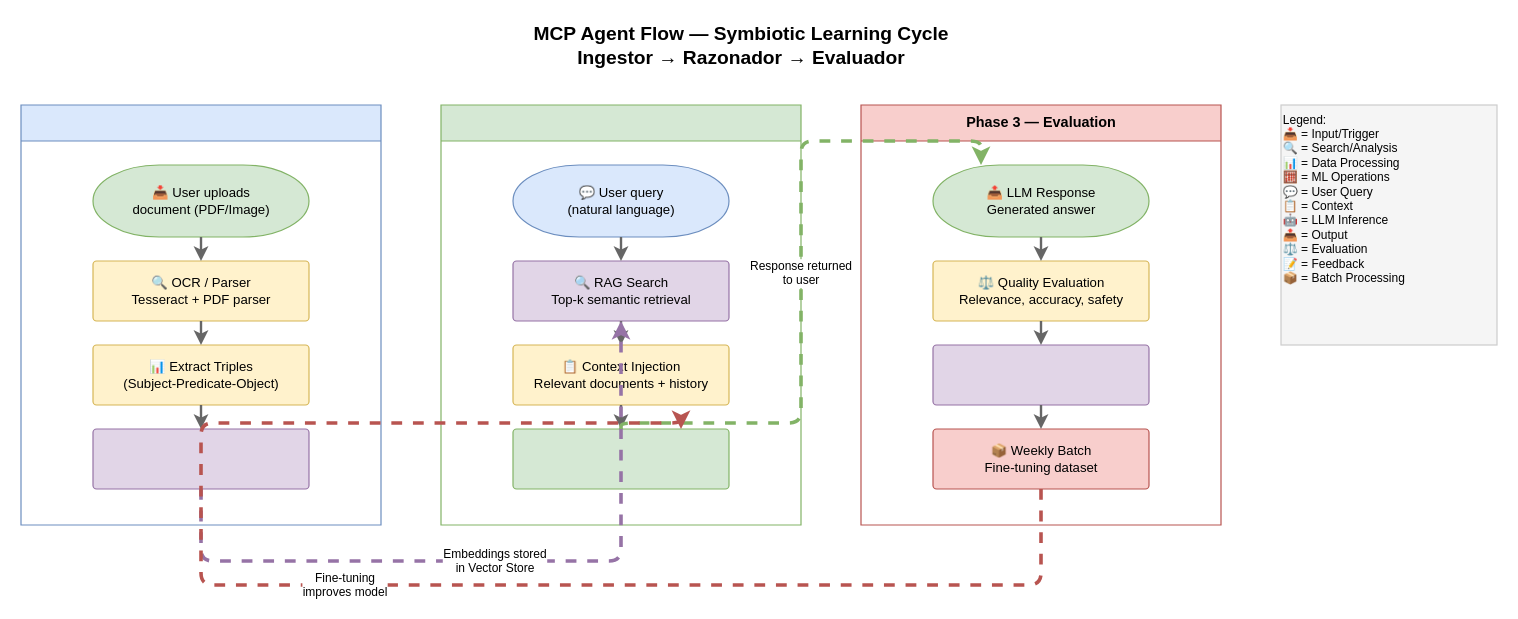
Some shapes in this 1518 by 619 pixel diagram are drawn without their labels. The box of each missing label's shape, as (x1, y1, x2, y2) in pixels:
Phase 1 — Ingestion: (20, 104, 381, 525)
Phase 2 — Reasoning: (440, 104, 801, 525)
📝 Generate Feedback Score + improvements: (932, 344, 1149, 405)
🤖 LLM Inference Llama 3 (cloud/device): (512, 428, 729, 489)
🧮 Generate Embeddings Vector representation: (92, 428, 309, 489)
